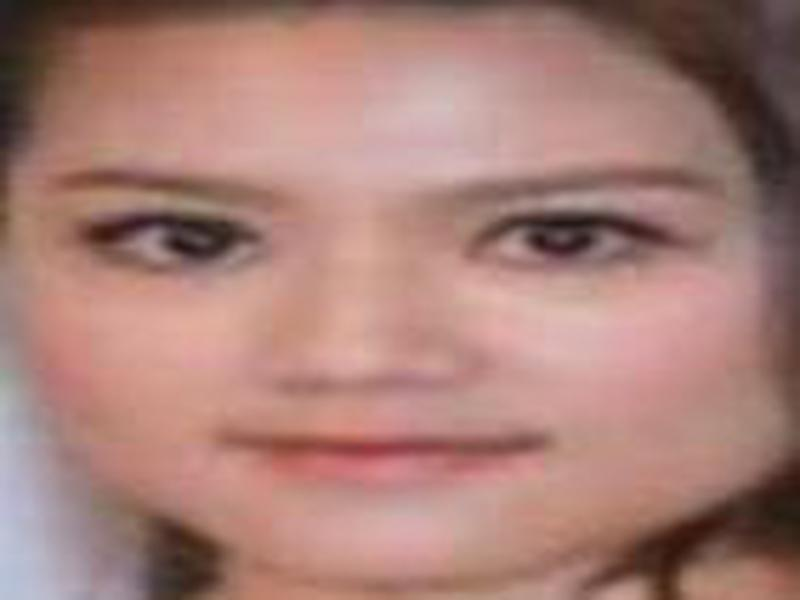without_mask: (25, 42, 765, 582)
